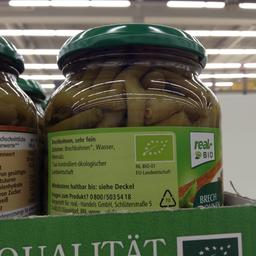beans: (44, 23, 226, 214)
